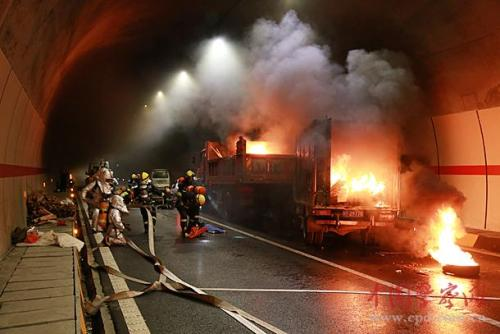fire: (418, 198, 475, 263), (328, 153, 385, 204)
